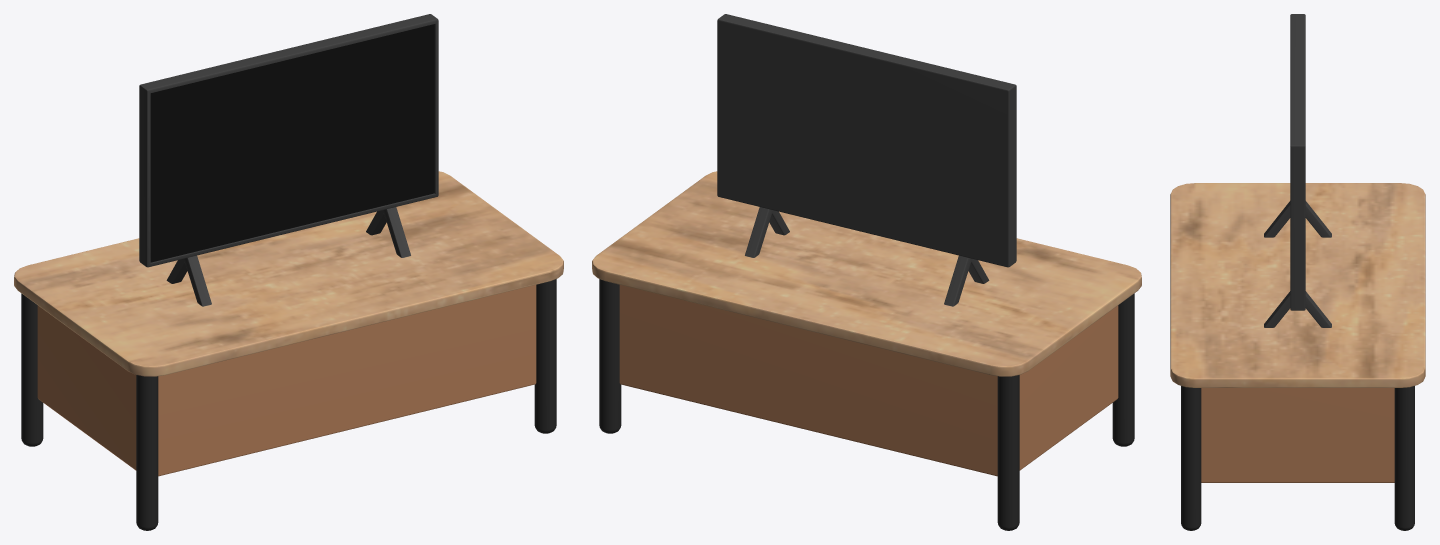
File: Tv_Lvl_3.fbx
3 renders of one model, left to right at view 1: azimuth 30°, elevation 25°; view 2: azimuth 150°, elevation 25°; view 3: azimuth 270°, elevation 25°, orthographic. The views are drawn at different scales.
Parts seen in each view (by area): view 1: Table_M, Tv_M; view 2: Table_M, Tv_M; view 3: Table_M, Tv_M.
Boxes of the visible parts, x1,y1,x2,y2 form: Table_M: (14,171,563,530); Tv_M: (139,14,438,306); Table_M: (592,171,1141,530); Tv_M: (717,14,1016,306); Table_M: (1170,183,1425,530); Tv_M: (1264,14,1331,327).
Size of the model in its own units: 2.62 by 2.23 by 1.44.
Materials: 1 (1 with a texture image).
